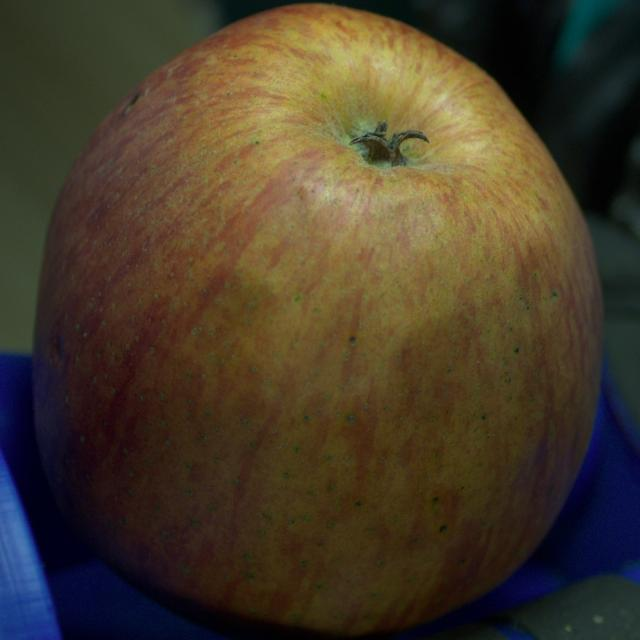apple: (33, 4, 602, 636)
bruise: (385, 316, 512, 477), (183, 269, 284, 372), (519, 249, 564, 318)
pest: (126, 92, 139, 111)
